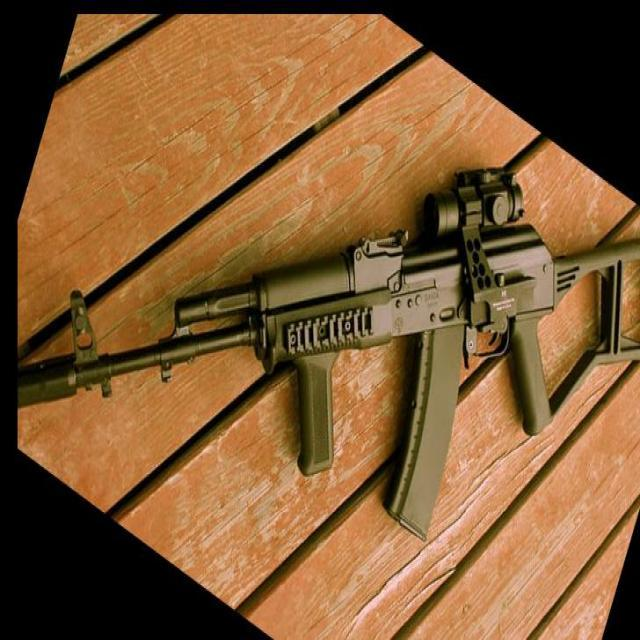weapon: (17, 167, 640, 542)
